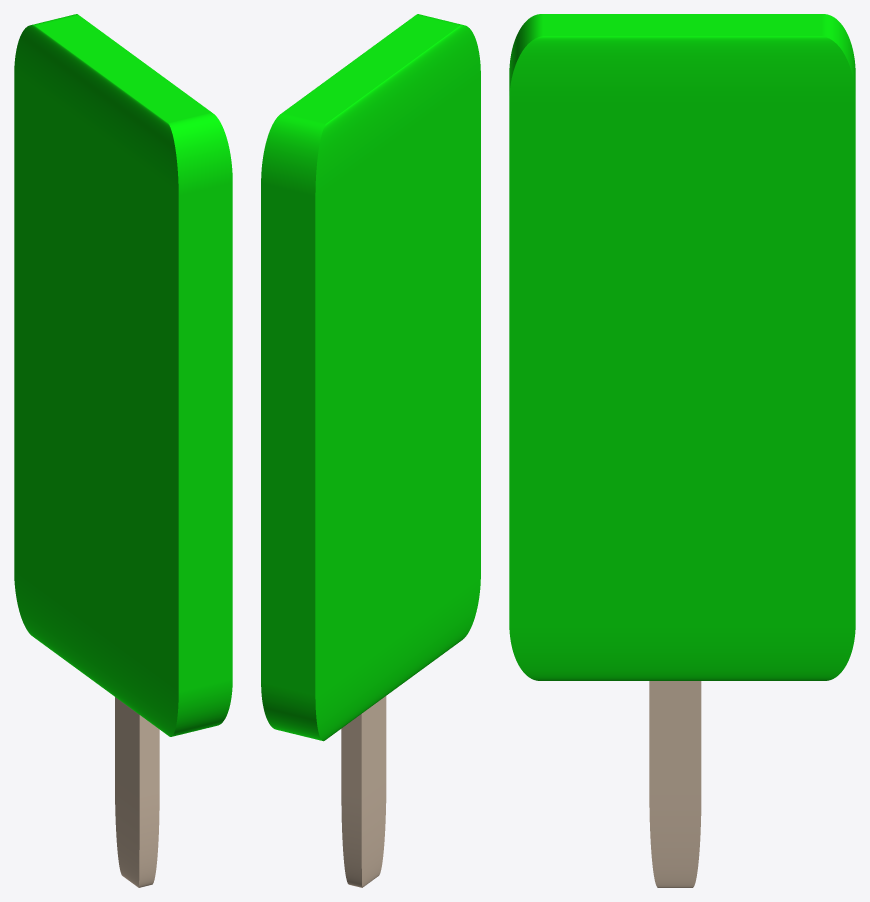
File: candy.glb
3 renders of one model, left to right at view 1: azimuth 30°, elevation 25°; view 2: azimuth 150°, elevation 25°; view 3: azimuth 270°, elevation 25°, orthographic. The views are drawn at different scales.
Visible parts, largest first — view 1: Cube, Cube.001; view 2: Cube, Cube.001; view 3: Cube, Cube.001.
Part boxes in pixels (<box>): Cube: <box>14,14,232,736</box>; Cube.001: <box>115,697,159,887</box>; Cube: <box>261,14,480,741</box>; Cube.001: <box>341,696,386,887</box>; Cube: <box>509,14,855,680</box>; Cube.001: <box>649,681,701,887</box>.
Size of the model in its own units: 0.406 by 5.82 by 2.14.
